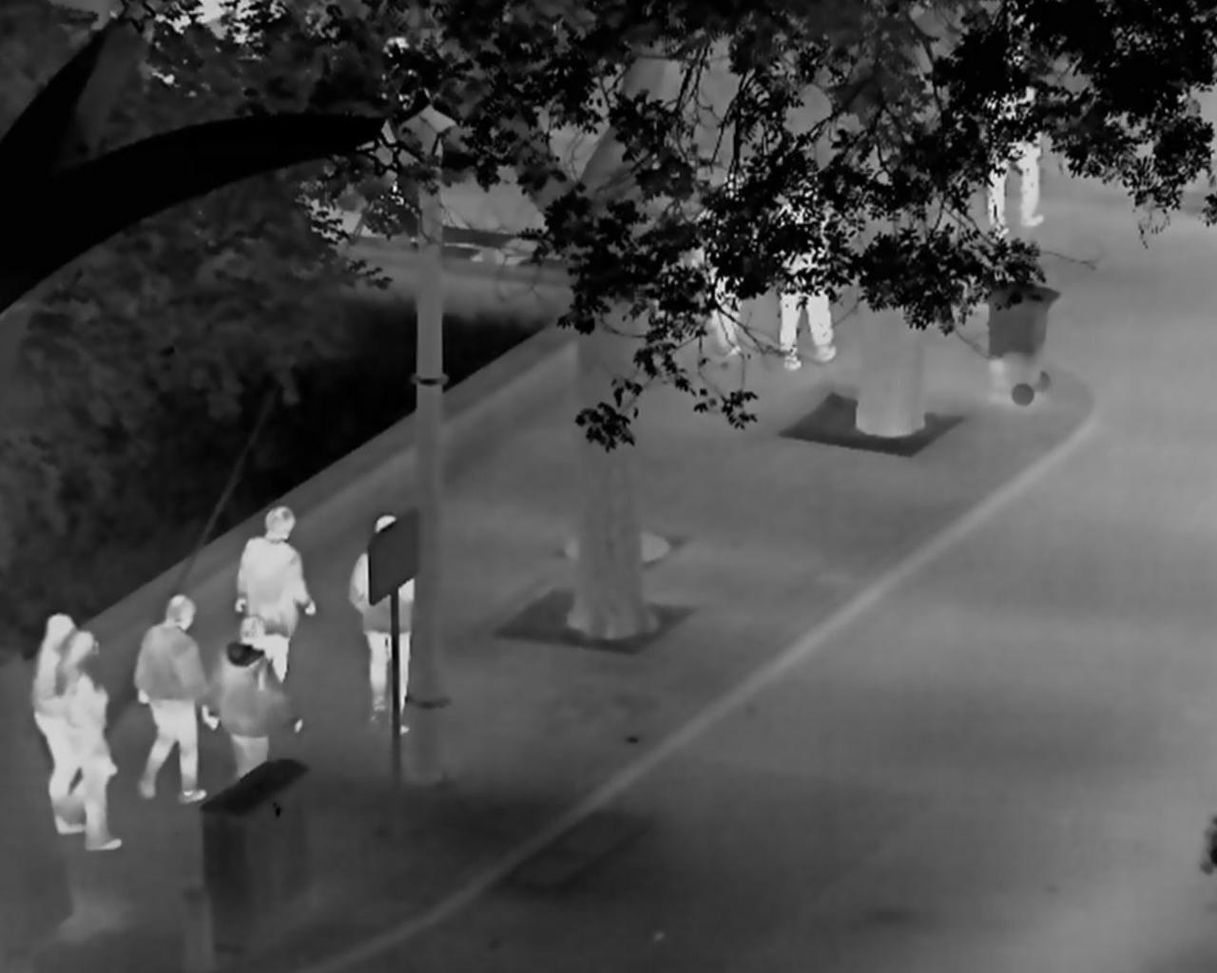person: (205, 613, 306, 777), (133, 593, 206, 806), (56, 628, 126, 850), (347, 515, 417, 737), (231, 505, 317, 683), (768, 171, 840, 371), (32, 613, 89, 833), (978, 45, 1044, 235), (691, 174, 758, 354)
